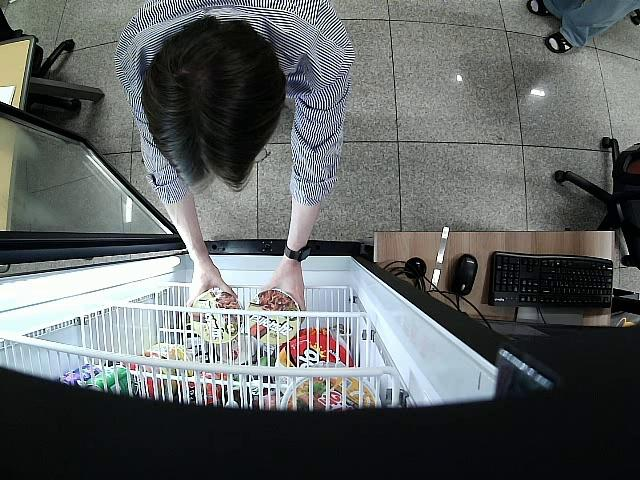00_hand: (265, 272, 306, 328), (188, 268, 240, 311)
03_chapagetti_L: (249, 293, 301, 344), (192, 289, 242, 341)
